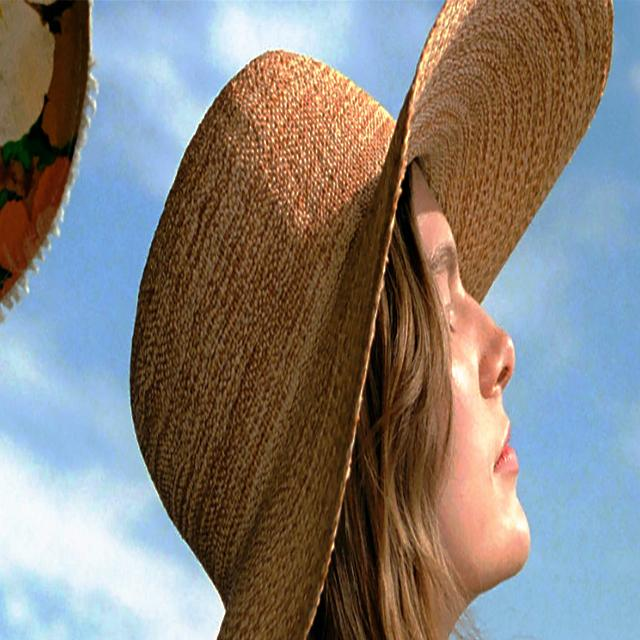TOPI: (127, 0, 616, 640)
